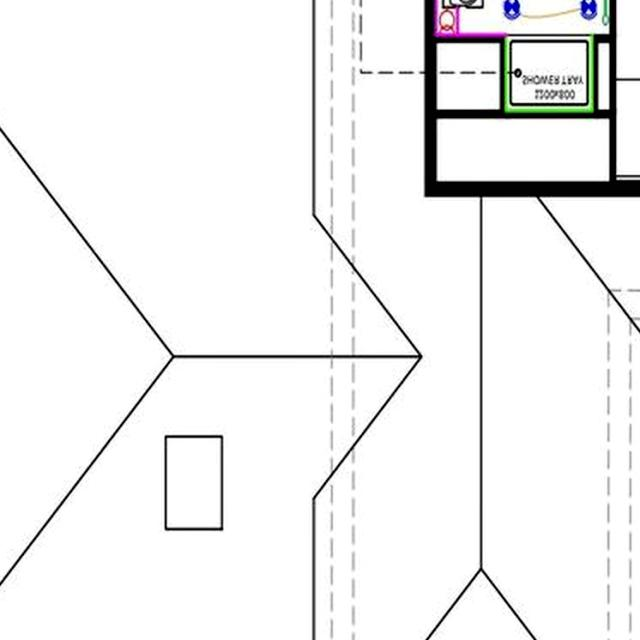Full Height Tiling: (503, 35, 592, 113)
Low Energy Downlighter: (502, 0, 520, 21), (579, 0, 596, 21)
Shaver Socket: (436, 8, 455, 37)
